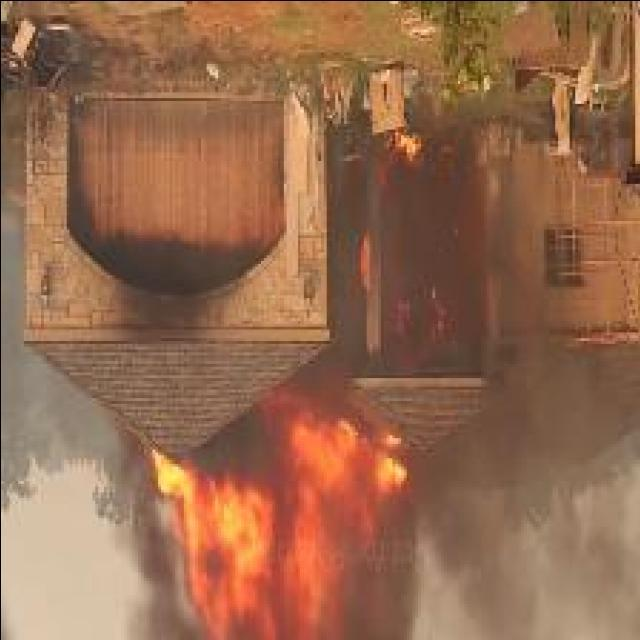Fire: (149, 389, 409, 640)
